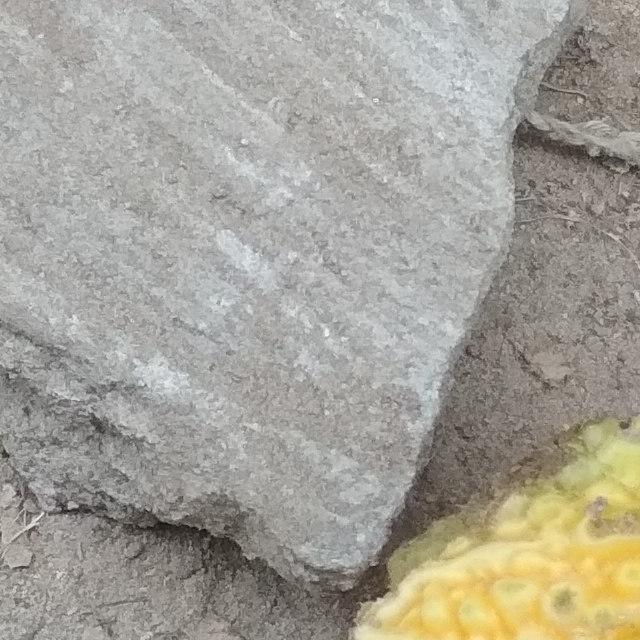food_waste: (175, 348, 640, 640)
